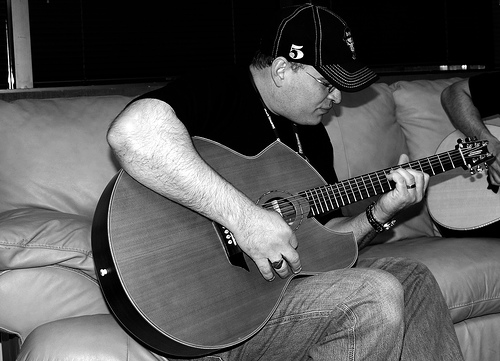guitar: (89, 132, 493, 357)
